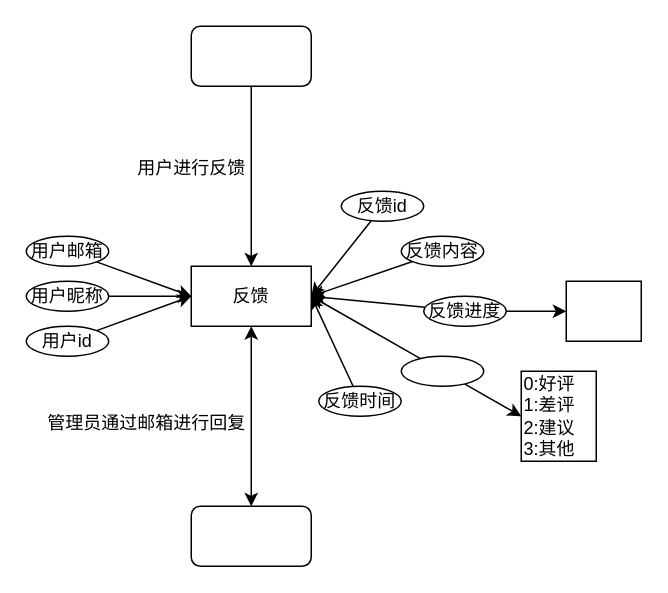
Some shapes in this 668 by 593 pixel diagram are drawn without their labels. Here are the shapes that lost their labels. From the top down, the centre of each, then its label:
point 250,55: 用户
point 603,310: 0:未回复 1:已回复
point 442,370: 反馈类型
point 250,535: 管理员
